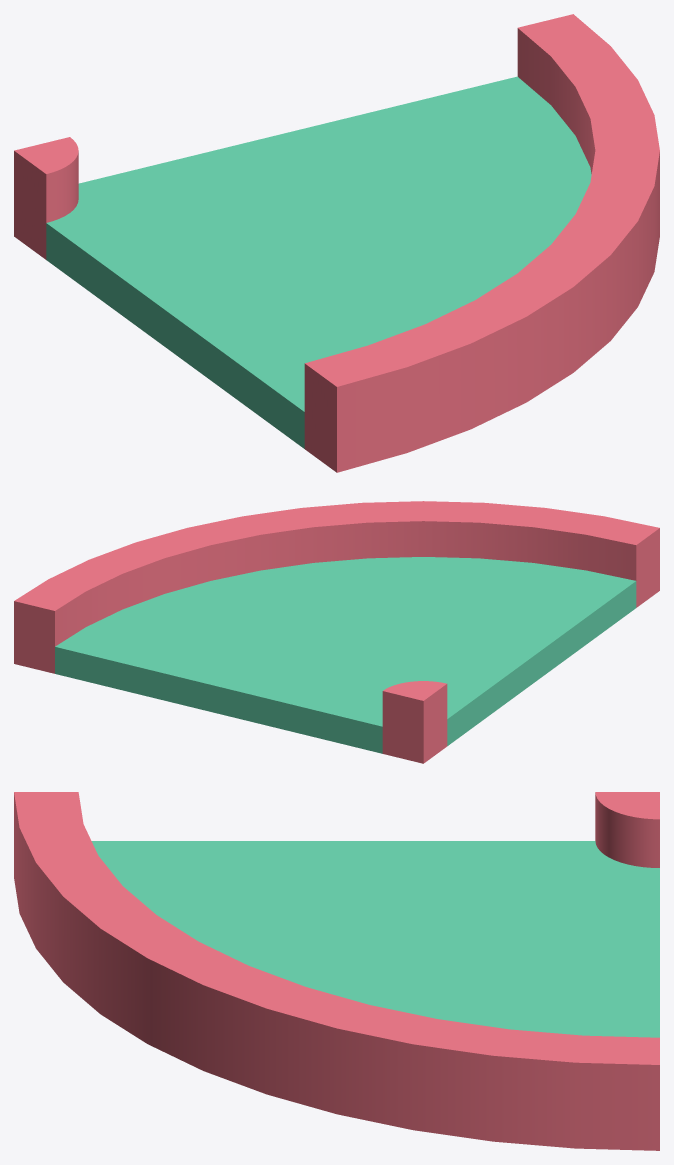
Rendered from myRoundCornerA.fbx.
3 views of the same model, one above another, from view 1: azimuth 30°, elevation 25°; view 2: azimuth 150°, elevation 25°; view 3: azimuth 270°, elevation 25° (orthographic). The views are drawn at different scales.
Parts seen in each view (by area): view 1: roundCornerAGround, roundCornerAWall; view 2: roundCornerAGround, roundCornerAWall; view 3: roundCornerAWall, roundCornerAGround.
Part boxes in pixels (x1,y1,x2,y2): roundCornerAGround: (46, 76, 591, 448); roundCornerAWall: (14, 14, 659, 472); roundCornerAGround: (55, 557, 636, 753); roundCornerAWall: (14, 501, 659, 763); roundCornerAWall: (14, 792, 659, 1150); roundCornerAGround: (91, 841, 659, 1037).
Size of the model in its own units: 450 by 65.99 by 450.
